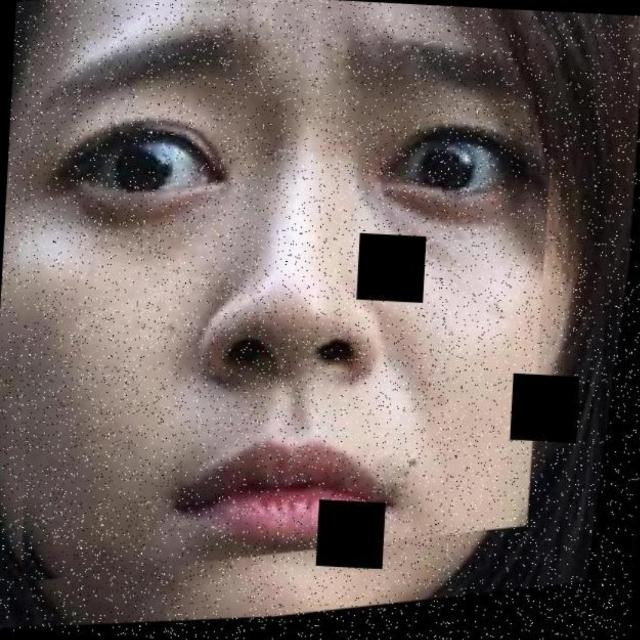Surprised: (28, 18, 575, 604)
